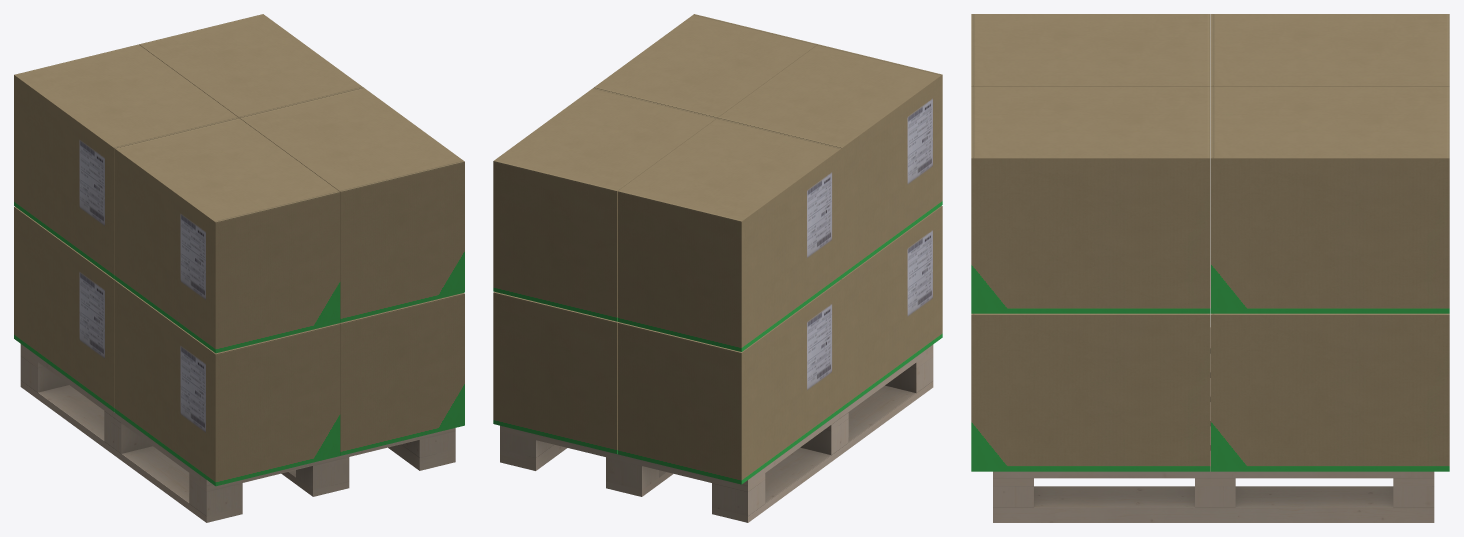
Rendered from SND_zhixiang.glb.
The picture shows the model from 3 angles, left to right: view 1: azimuth 30°, elevation 25°; view 2: azimuth 150°, elevation 25°; view 3: azimuth 270°, elevation 25°; orthographic projection. The views are drawn at different scales.
Parts seen in each view (by area): view 1: Asset3DLoader.sceneRoot; view 2: Asset3DLoader.sceneRoot; view 3: Asset3DLoader.sceneRoot.
Boxes of the visible parts, bbox=[...] form: Asset3DLoader.sceneRoot: bbox=[14, 14, 464, 522]; Asset3DLoader.sceneRoot: bbox=[493, 14, 942, 522]; Asset3DLoader.sceneRoot: bbox=[971, 14, 1449, 522].
Size of the model in its own units: 901 by 1062 by 1263.
1 material, 1 textured.
